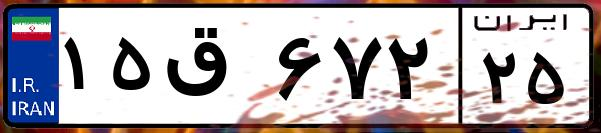1: (57, 26, 110, 100)
2: (385, 28, 445, 110), (475, 38, 525, 113)
5: (525, 38, 570, 115), (110, 28, 158, 98)
6: (270, 28, 330, 110)
7: (330, 28, 385, 110)
ق: (158, 20, 270, 120)
